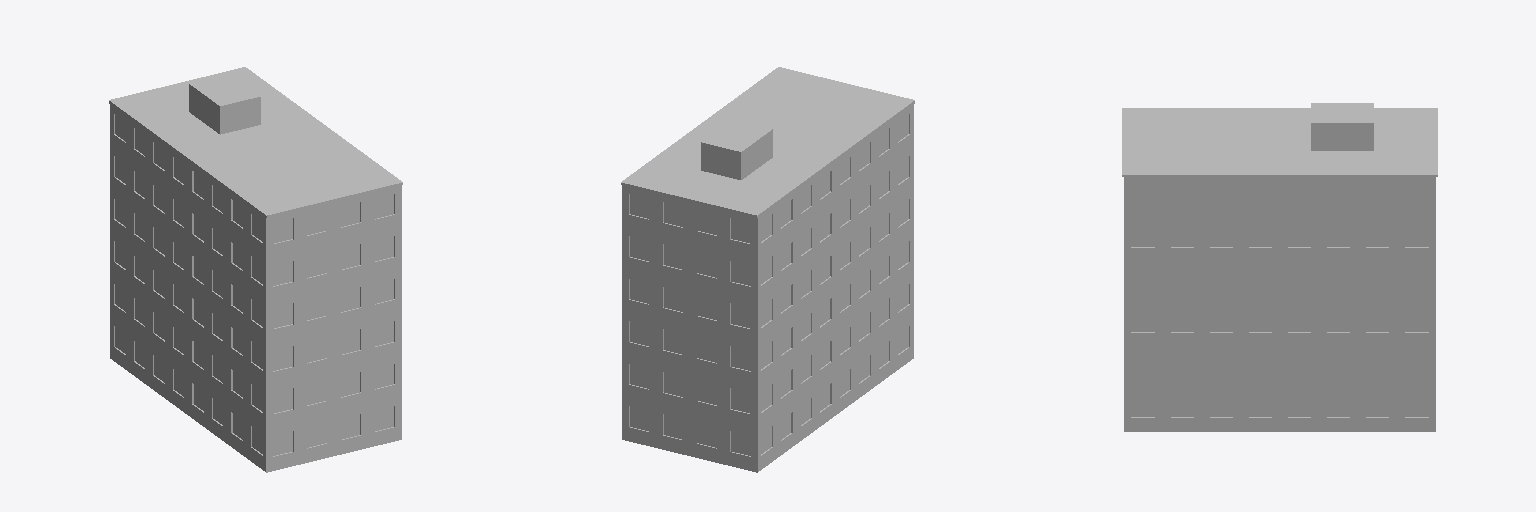
Rendered from buildingTypeA.obj.
The picture shows the model from 3 angles: view 1: azimuth 30°, elevation 25°; view 2: azimuth 150°, elevation 25°; view 3: azimuth 270°, elevation 25°; orthographic projection.
Parts seen in each view (by area): view 1: typeA_export_Cube; view 2: typeA_export_Cube; view 3: typeA_export_Cube.
Part boxes in pixels (left/top/right/bottom): typeA_export_Cube: left=109, top=67, right=402, bottom=472; typeA_export_Cube: left=621, top=67, right=914, bottom=472; typeA_export_Cube: left=1122, top=103, right=1437, bottom=431.
Bounding box in the file's own units: 10.1 × 20.2 × 20.2.